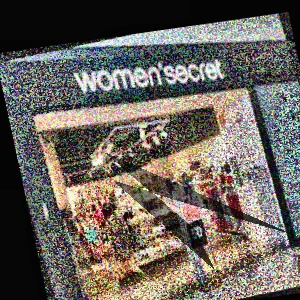women_secret: (187, 27, 255, 54)
